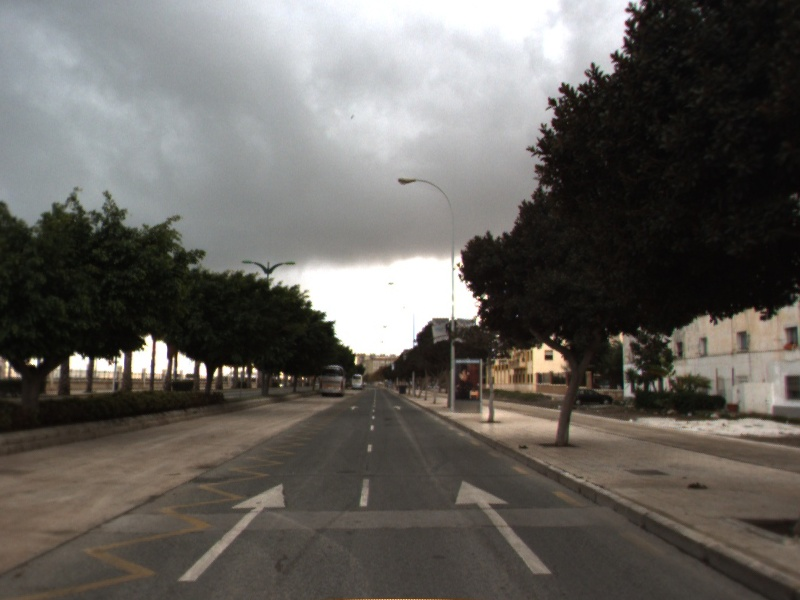STRAIGHT: (175, 480, 289, 585), (452, 478, 556, 578)
